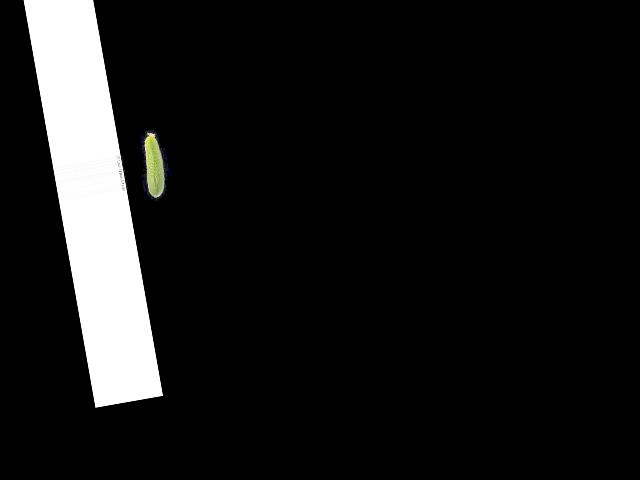cucumber: (138, 131, 168, 198)
